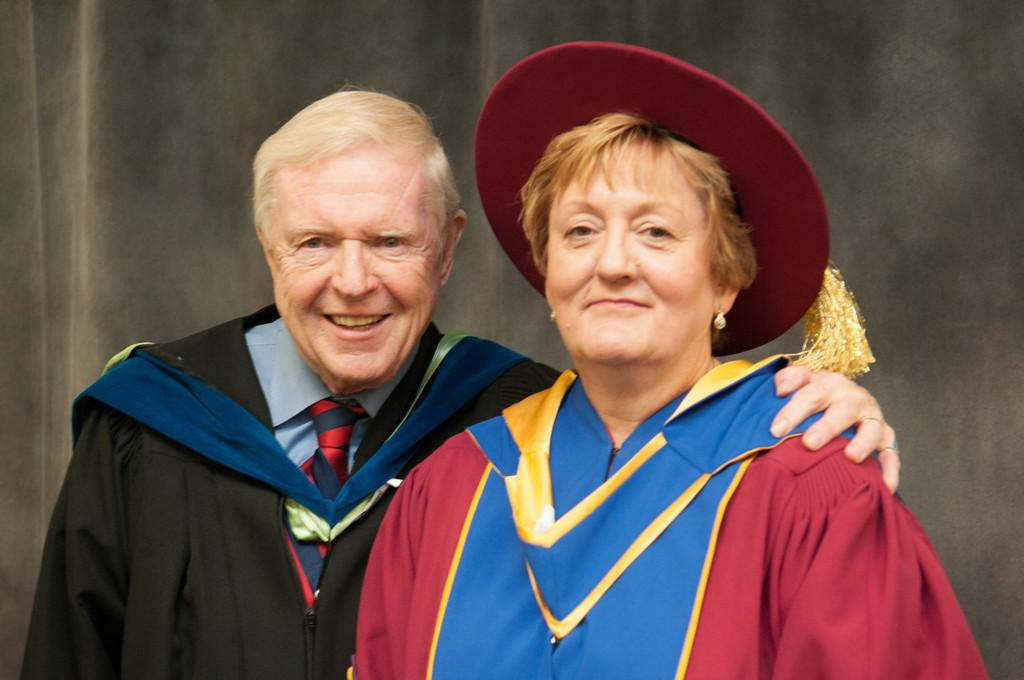Hat: (473, 38, 870, 370)
